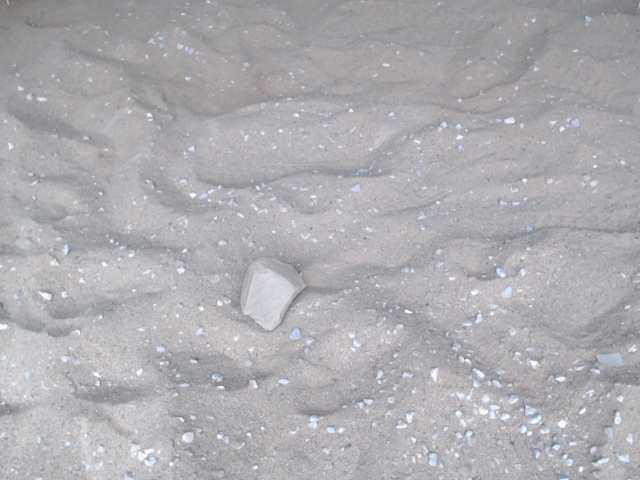rock: (232, 252, 309, 337)
